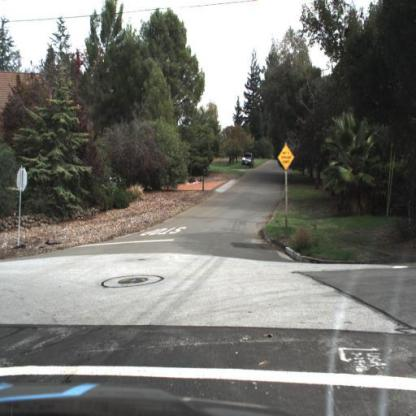car: (241, 150, 256, 169)
